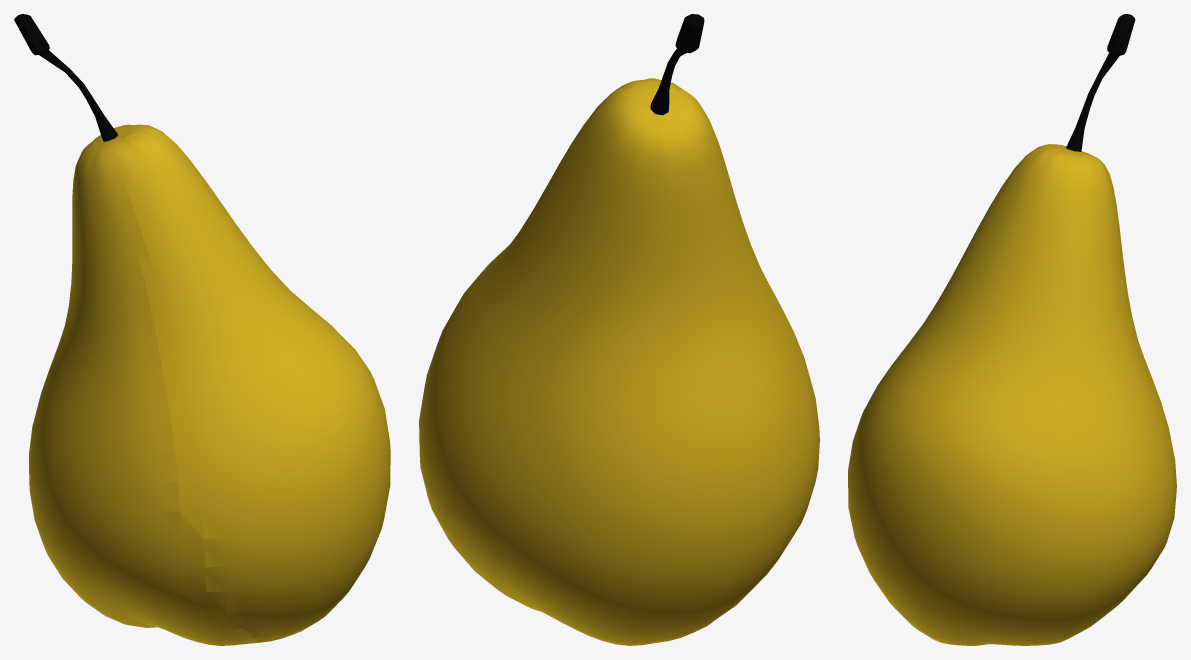
The model's file is pear.FBX.
3 views of the same model, side by side, from view 1: azimuth 30°, elevation 25°; view 2: azimuth 150°, elevation 25°; view 3: azimuth 270°, elevation 25° (orthographic). The views are drawn at different scales.
Parts seen in each view (by area): view 1: pear, pear+; view 2: pear, pear+; view 3: pear, pear+.
Part boxes in pixels (x1,y1,x2,y2): pear: (29,124,390,645); pear+: (14,14,117,141); pear: (419,78,819,645); pear+: (650,14,704,115); pear: (848,144,1176,645); pear+: (1066,14,1135,151).
Size of the model in its own units: 64.59 by 119 by 63.95.
